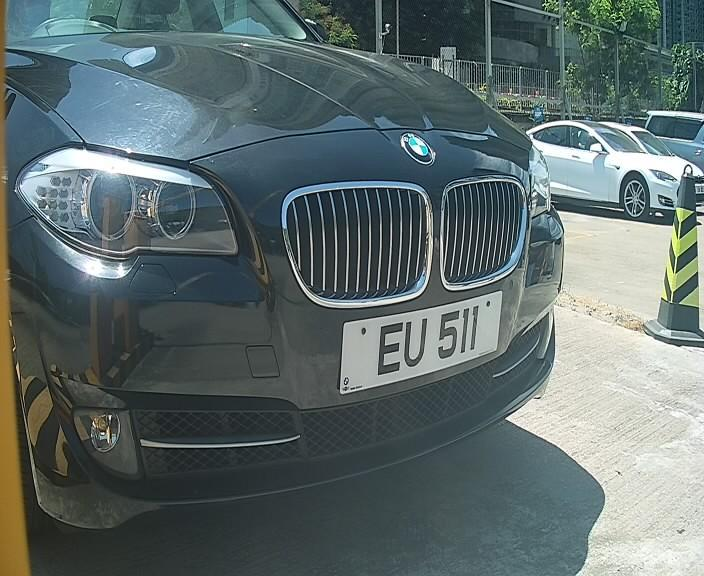privatecar: (13, 21, 573, 525)
